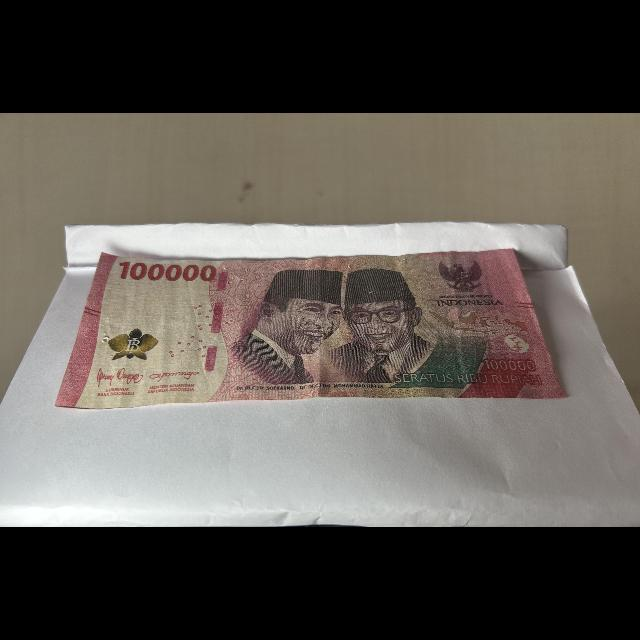Palsu-100k: (47, 240, 570, 413)
Tinta-Palsu-100k: (103, 328, 161, 361)
